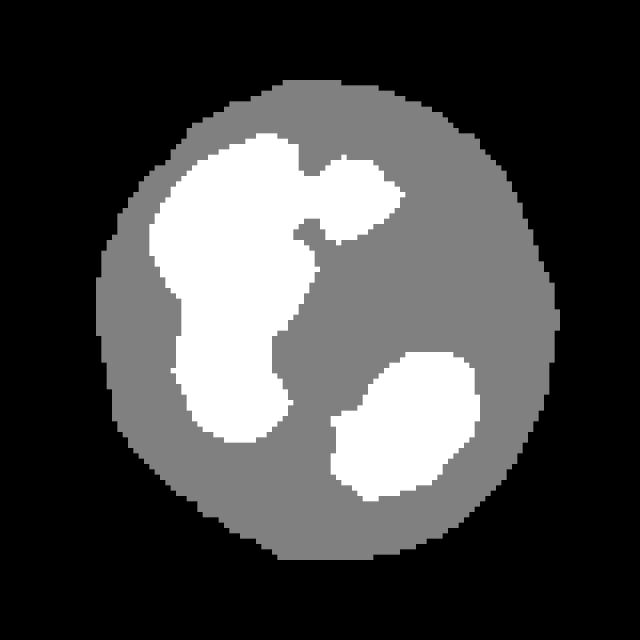WBC: (80, 64, 560, 560)
